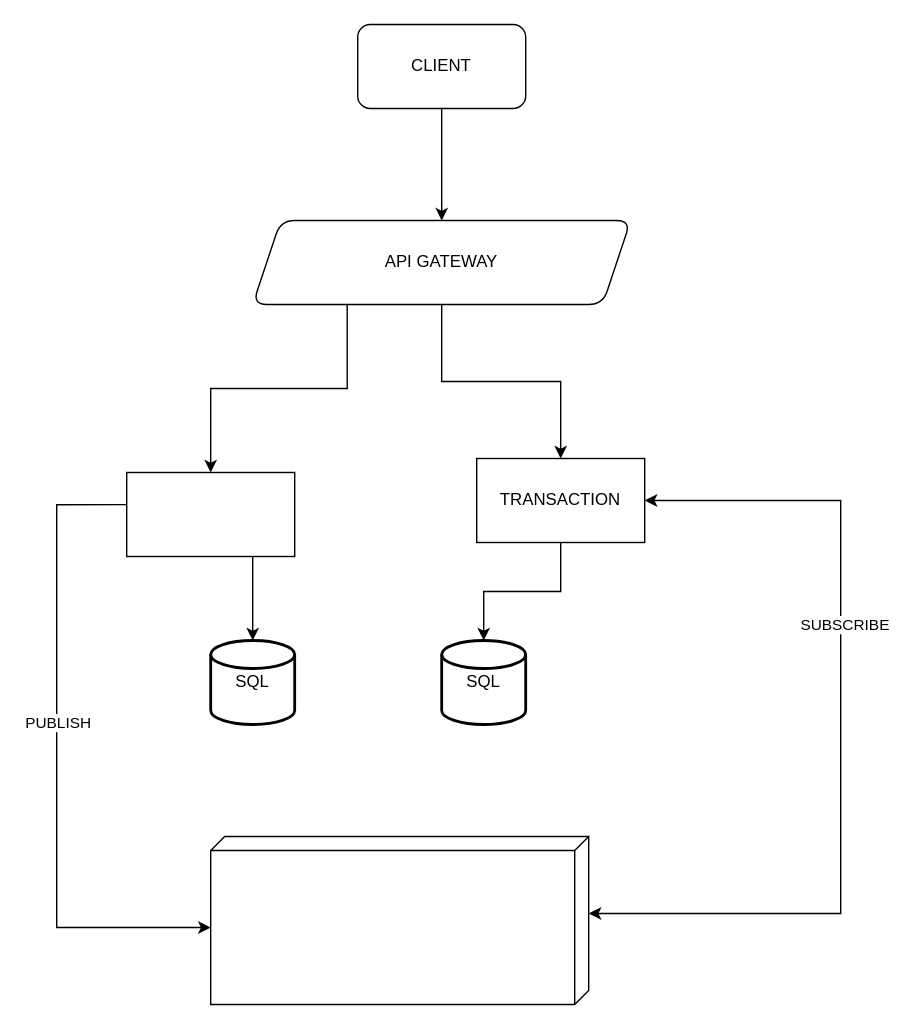
This 913x1029 diagram has some shape labels left out. The box of each missing label's shape, as (x1, y1, x2, y2) in pixels:
RABBITMQ: (209, 835, 589, 1004)
VEHICLE: (125, 471, 295, 556)
